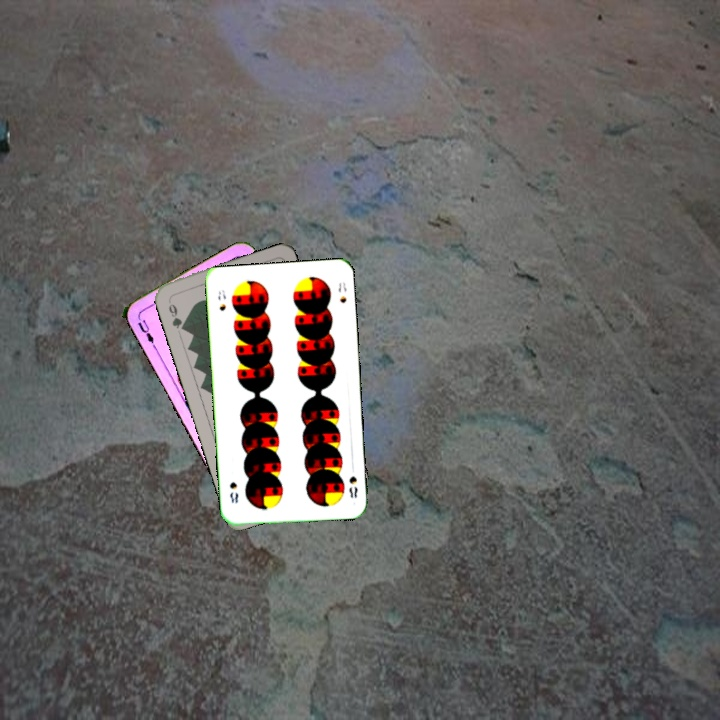EU: (134, 315, 159, 351)
G9: (164, 295, 188, 333)
S8: (345, 472, 360, 500), (214, 286, 228, 314)
